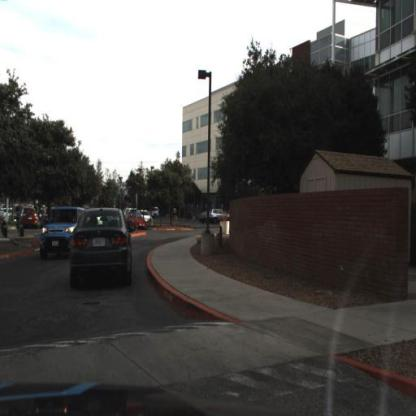car: (67, 204, 135, 292), (39, 200, 78, 260), (121, 209, 148, 230), (127, 208, 146, 234), (209, 205, 230, 226), (151, 202, 161, 218)
